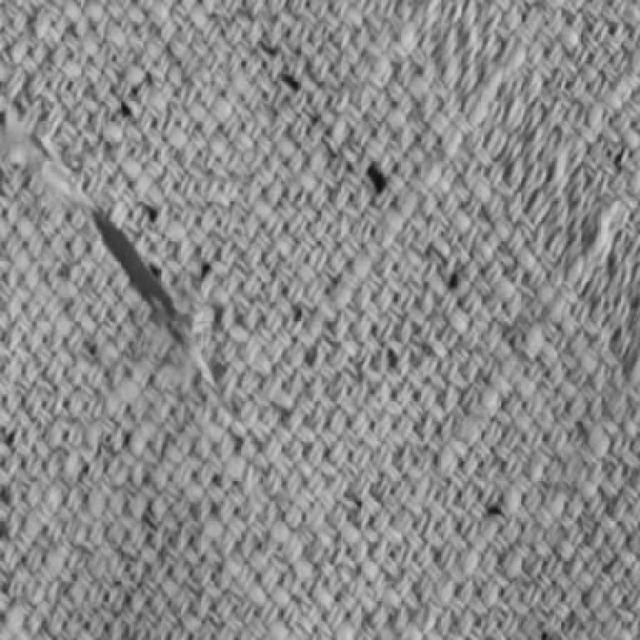other: (74, 200, 199, 372), (358, 148, 404, 218), (271, 61, 325, 102), (470, 490, 522, 532), (436, 261, 480, 305)
